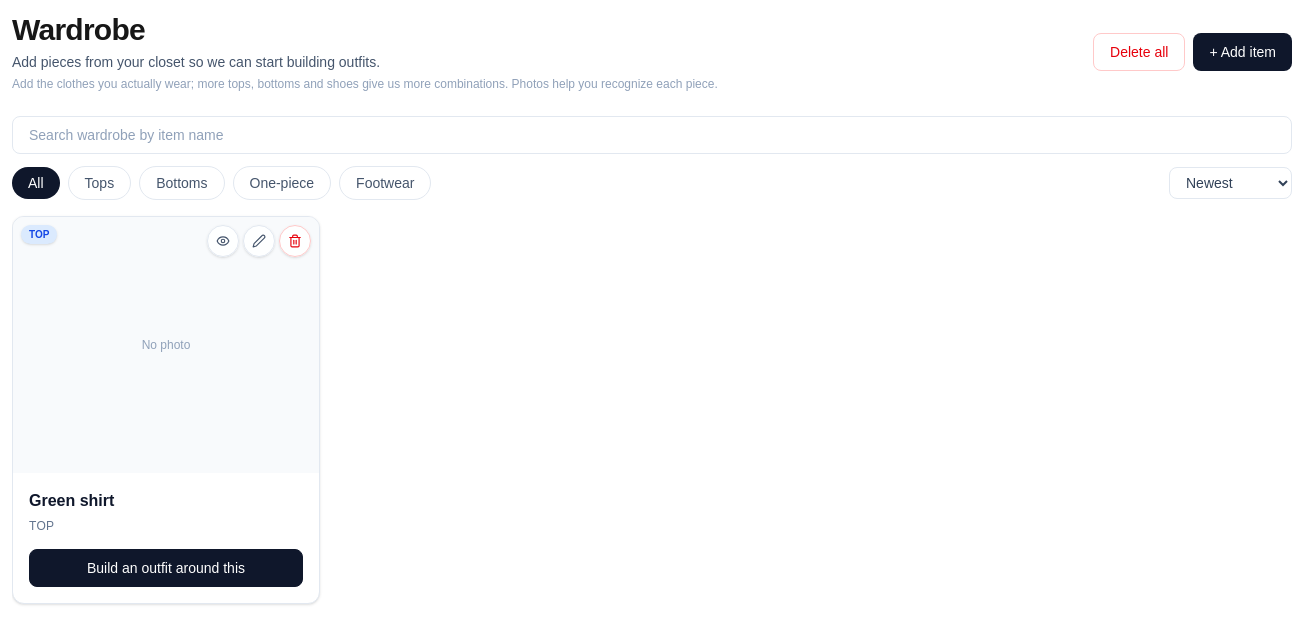
Test: reconciles an unknown transport result before showing the remaining closet
Expected: the heading "Green shirt" is shown, [29,492,114,509]
Click the button "Delete all" at (1139, 52), box [1093,33,1186,71]
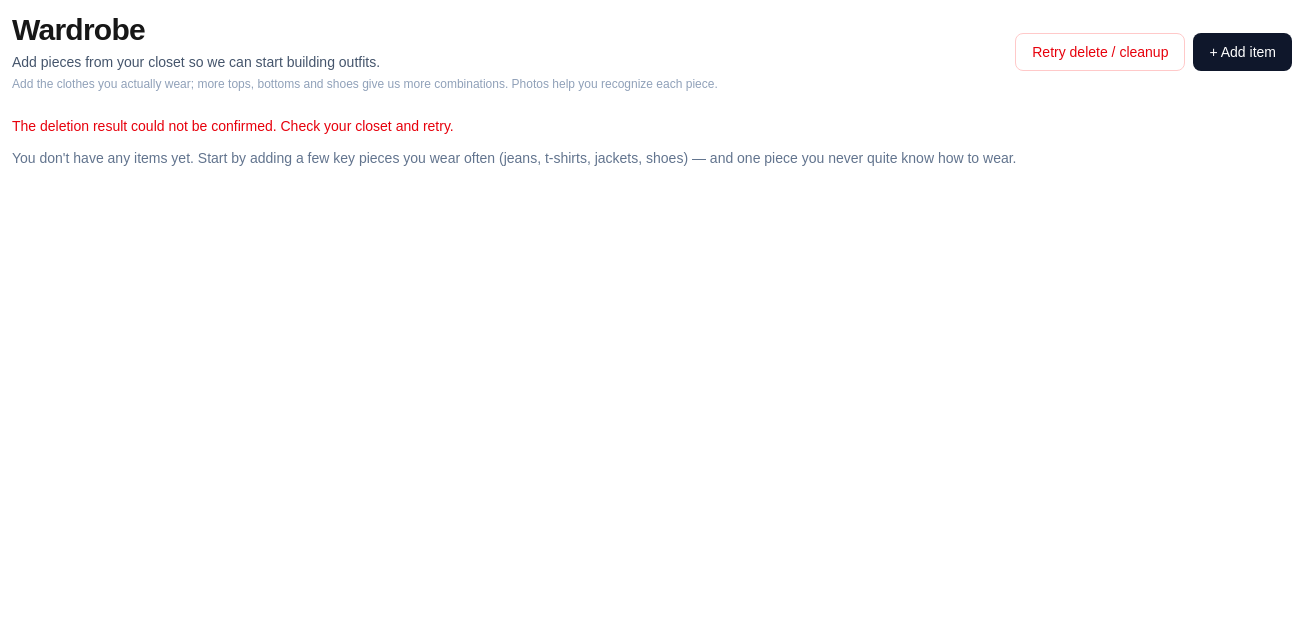
Expected: the button "Retry delete / cleanup" is enabled, [1015,33,1186,71]
Result: the text "deletion result could not be confirmed" is shown at [12,118,454,134]
Result: the heading "Green shirt" is gone
